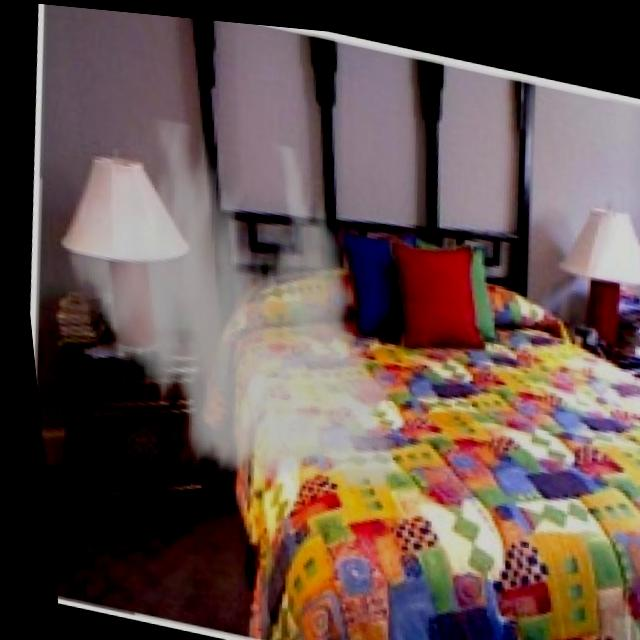Smoke: (42, 93, 420, 522)
